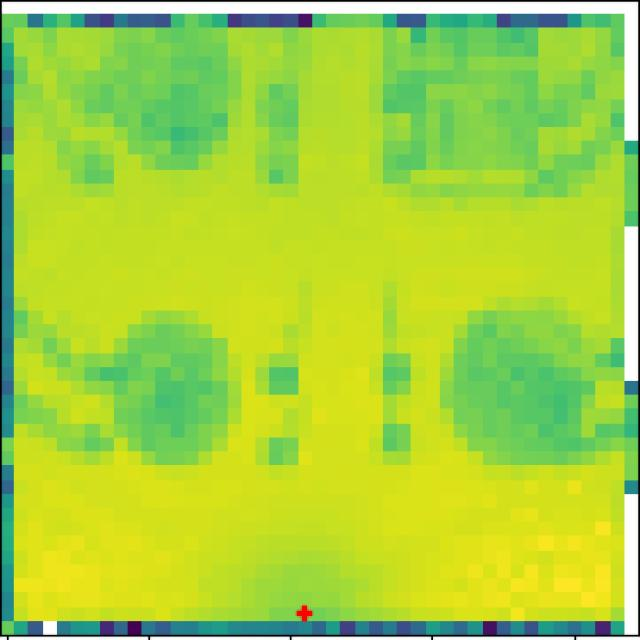Concrete: (91, 34, 255, 203)
Glass: (420, 280, 604, 504)
Metal: (95, 302, 252, 481)
Wood: (374, 33, 556, 227)
